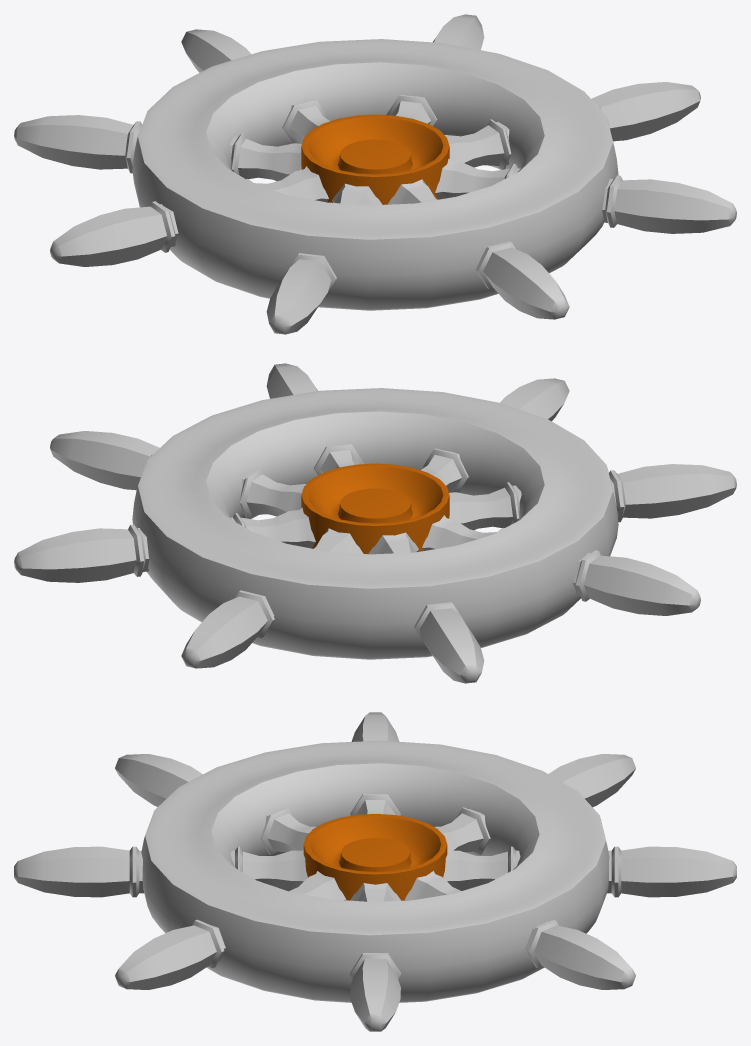
File: Steering Wheel.fbx
3 renders of one model, top to bottom at view 1: azimuth 30°, elevation 25°; view 2: azimuth 150°, elevation 25°; view 3: azimuth 270°, elevation 25°, orthographic. The views are drawn at different scales.
Visible parts, largest first — view 1: Wheel, CenterSpindle; view 2: Wheel, CenterSpindle; view 3: Wheel, CenterSpindle.
Boxes of the visible parts, x1,y1,x2,y2 form: Wheel: (14, 14, 736, 334); CenterSpindle: (301, 114, 449, 204); Wheel: (14, 363, 736, 683); CenterSpindle: (301, 463, 449, 554); Wheel: (14, 712, 736, 1031); CenterSpindle: (303, 814, 447, 900).
Size of the model in its own units: 185 by 23.26 by 185.
